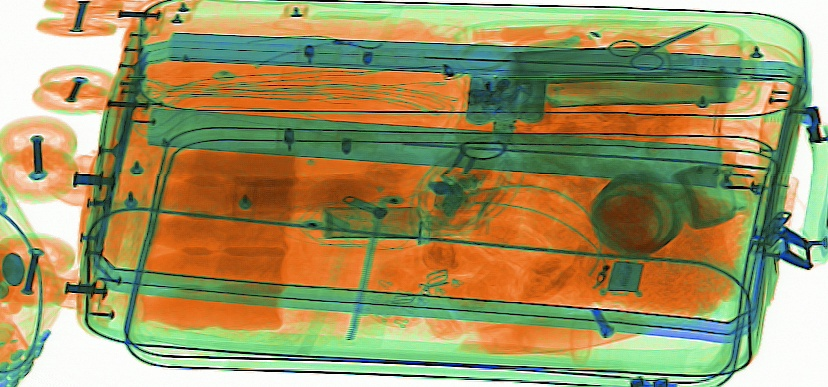powerbank: (459, 60, 549, 140)
scissors: (606, 20, 712, 72)
